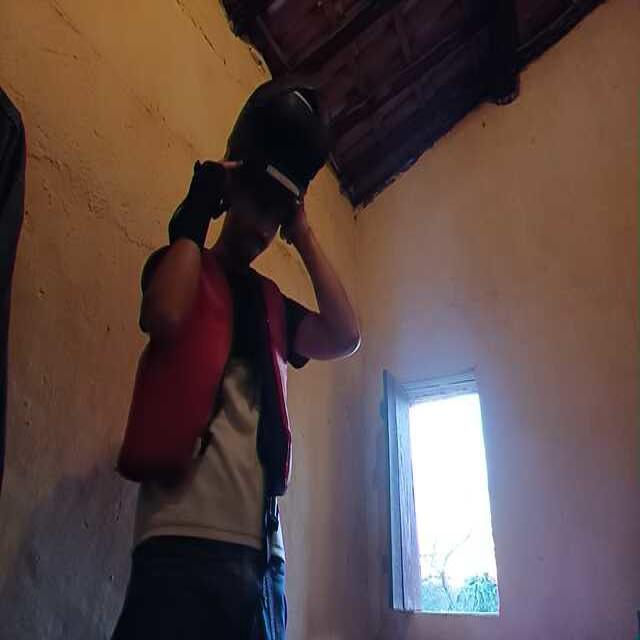colete: (138, 238, 225, 491), (255, 273, 294, 490)
pessoa: (136, 167, 358, 640)
